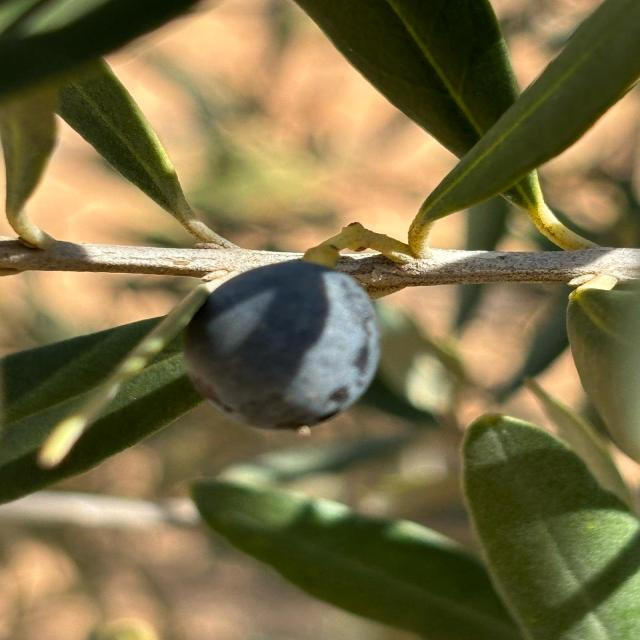Healthy: (183, 257, 379, 433)
